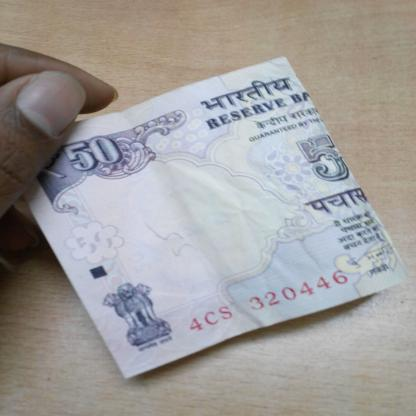Old50Front: (22, 56, 408, 378)
